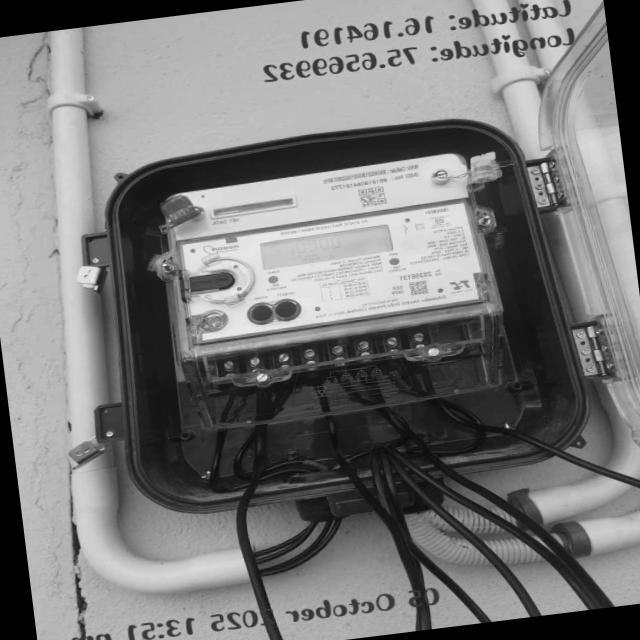meter: (156, 151, 485, 347)
